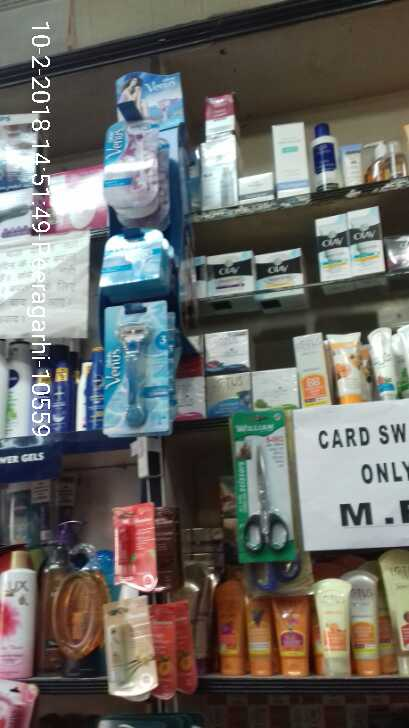beauty: (99, 304, 171, 439), (90, 120, 162, 214), (90, 228, 167, 288), (309, 203, 347, 283), (344, 202, 386, 271), (208, 250, 256, 297), (254, 250, 302, 288)
